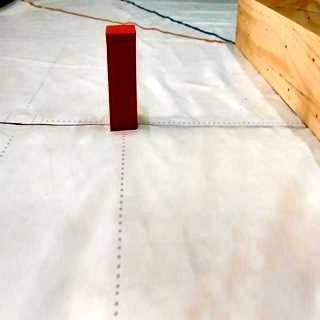redbox: (106, 24, 138, 130)
